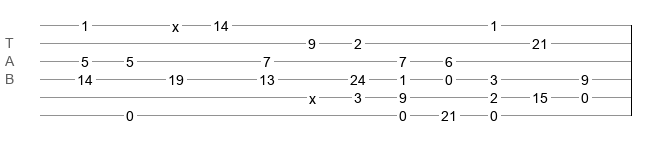0: (126, 108, 134, 118), (399, 108, 407, 118), (445, 72, 453, 82), (490, 108, 498, 118), (581, 90, 589, 100)
1: (81, 18, 89, 28), (399, 72, 407, 82), (490, 18, 498, 28)
13: (259, 72, 275, 82)
14: (77, 72, 93, 82), (213, 18, 229, 28)
15: (532, 90, 548, 100)
19: (168, 72, 184, 82)
2: (354, 36, 362, 46), (490, 90, 498, 100)
21: (441, 108, 457, 118), (532, 36, 548, 46)
24: (350, 72, 366, 82)
3: (354, 90, 362, 100), (490, 72, 498, 82)
5: (81, 54, 89, 64), (126, 54, 134, 64)
6: (445, 54, 453, 64)
7: (263, 54, 271, 64), (399, 54, 407, 64)
9: (308, 36, 316, 46), (399, 90, 407, 100), (581, 72, 589, 82)
x: (172, 19, 179, 27), (309, 91, 316, 99)
